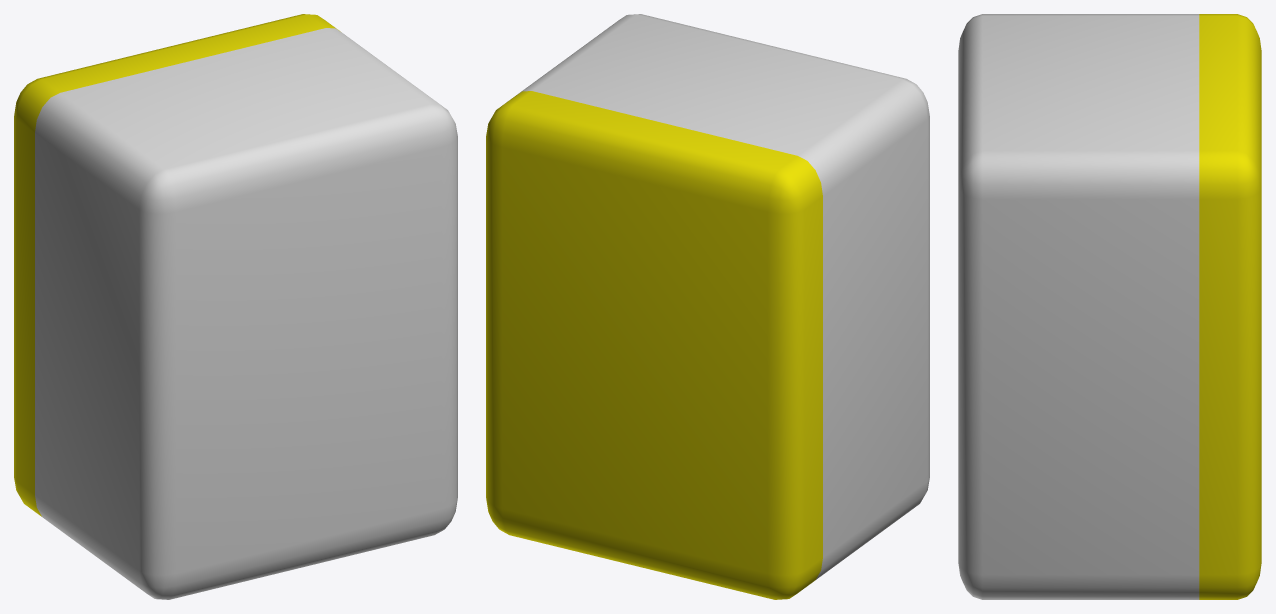
Rendered from zihai7.glb.
3 views of the same model, side by side, from view 1: azimuth 30°, elevation 25°; view 2: azimuth 150°, elevation 25°; view 3: azimuth 270°, elevation 25° (orthographic). The views are drawn at different scales.
Parts seen in each view (by area): view 1: Cube; view 2: Cube; view 3: Cube.
Part boxes in pixels (x1,y1,x2,y2): Cube: (14, 14, 457, 599); Cube: (486, 14, 929, 599); Cube: (958, 14, 1261, 599).
Bounding box in the file's own units: 2 × 2.6 × 1.6.
